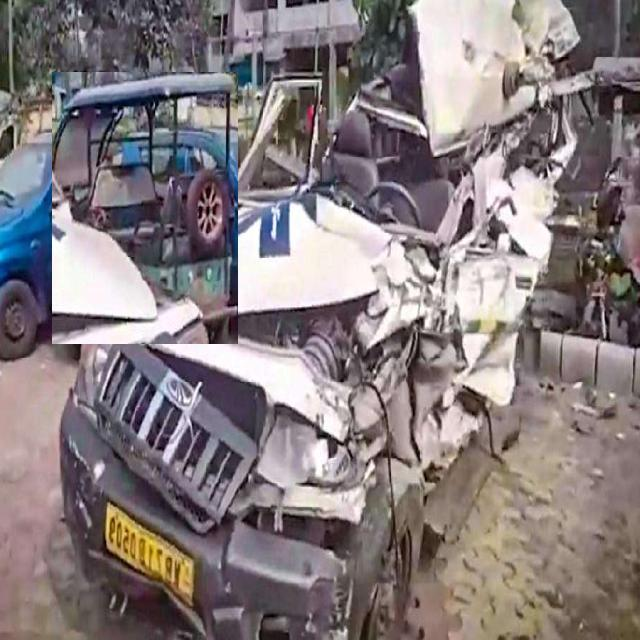accident: (60, 0, 575, 638)
autorickshaw: (52, 73, 238, 344)
